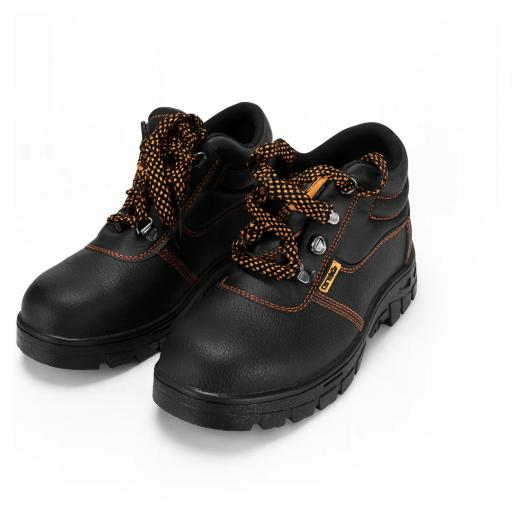safety_boots: (140, 113, 440, 440)
